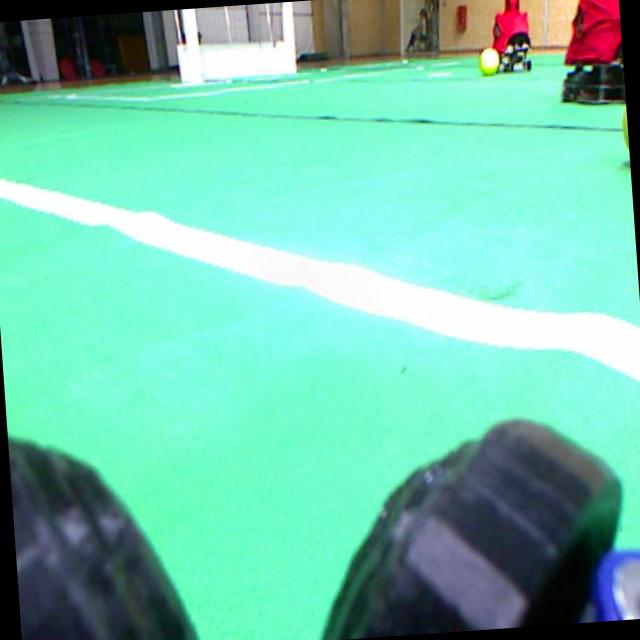ball: (479, 47, 498, 75)
goal: (182, 8, 201, 83), (281, 1, 296, 72)
